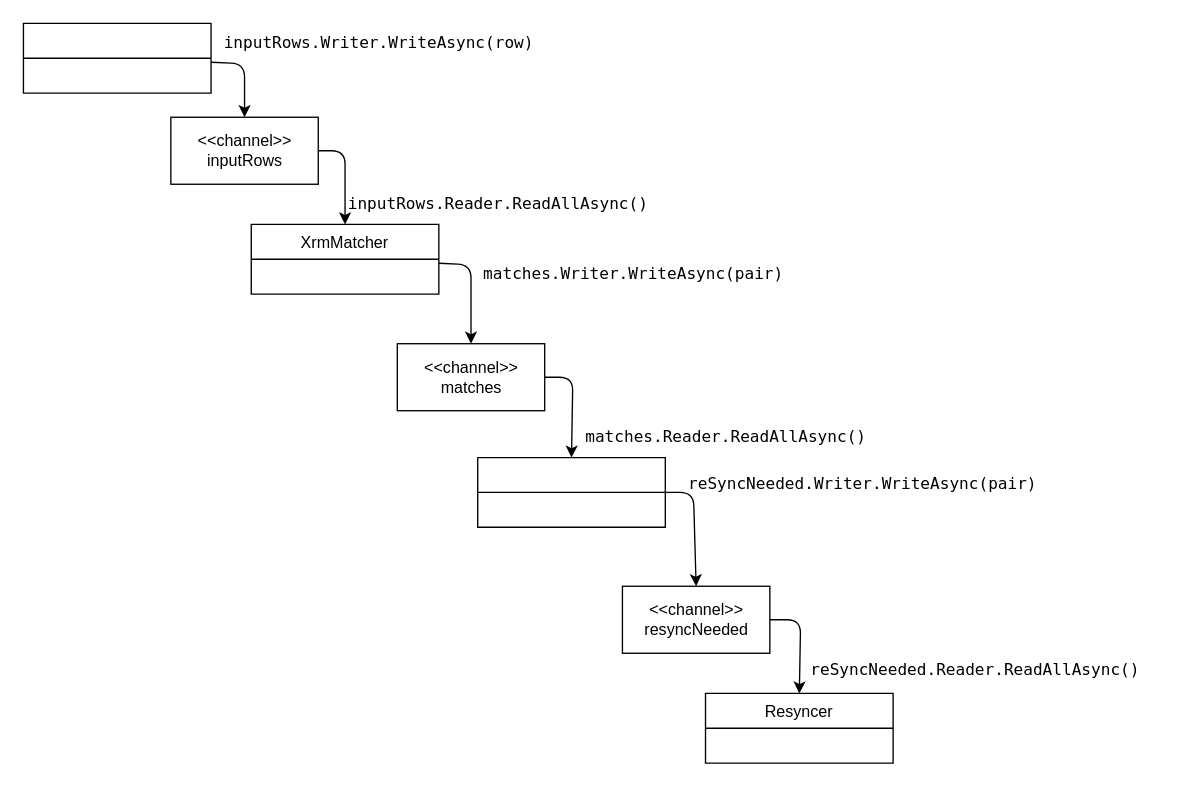
Some shapes in this 1179 by 787 pixel diagram are drawn without their labels. Here are the shapes that lost their labels. From the top down, the centre of each, then its label:
the point at 116,57: SheetReader
the point at 570,491: ContactComparer
